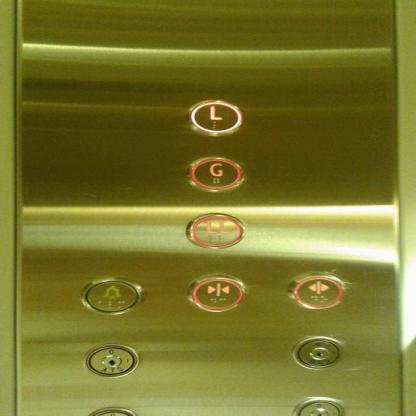G: (186, 156, 247, 194)
L: (184, 98, 244, 136)
LL: (185, 212, 245, 248)
alarm: (79, 277, 146, 315)
close: (183, 272, 247, 312)
keyhole: (292, 335, 346, 370), (82, 344, 139, 377), (290, 396, 350, 416)
open: (283, 271, 347, 310)
